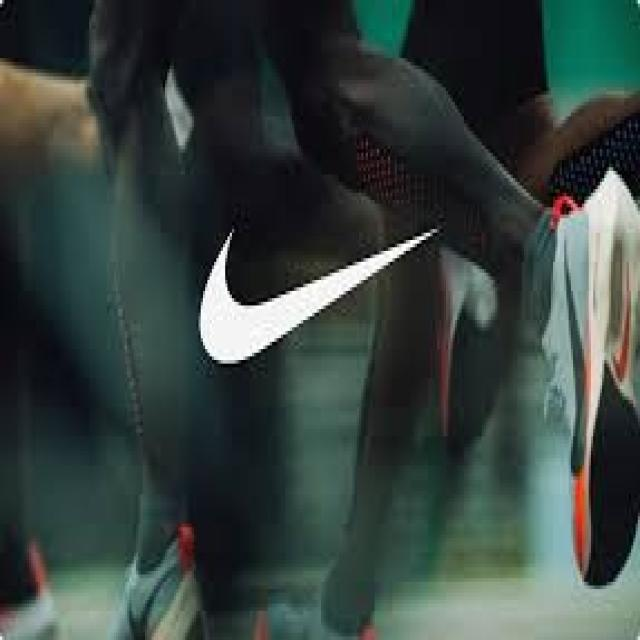nike: (184, 201, 452, 389), (609, 250, 639, 395)
